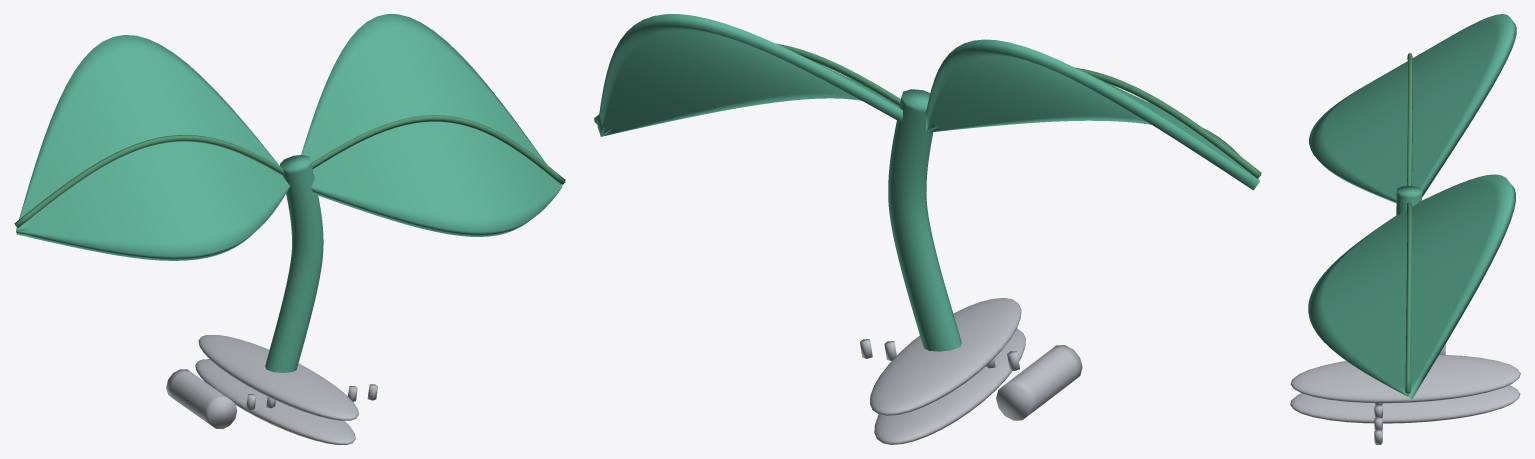
File: Feminine-space-buns-pashmina249-sprout.glb
3 renders of one model, left to right at view 1: azimuth 30°, elevation 25°; view 2: azimuth 150°, elevation 25°; view 3: azimuth 270°, elevation 25°, orthographic. The views are drawn at different scales.
Visible parts, largest first — view 1: 226 extra / Accessory / mint226, 226 extra / Sprout / clip silver235, 226 extra / Sprout / leaf vein235; view 2: 226 extra / Accessory / mint226, 226 extra / Sprout / clip silver235, 226 extra / Sprout / leaf vein235; view 3: 226 extra / Accessory / mint226, 226 extra / Sprout / clip silver235, 226 extra / Sprout / leaf vein235.
Boxes of the visible parts, bbox=[...] form: 226 extra / Accessory / mint226: bbox=[16, 14, 562, 372]; 226 extra / Sprout / clip silver235: bbox=[166, 335, 377, 444]; 226 extra / Sprout / leaf vein235: bbox=[14, 115, 565, 228]; 226 extra / Accessory / mint226: bbox=[597, 14, 1259, 351]; 226 extra / Sprout / clip silver235: bbox=[860, 298, 1082, 444]; 226 extra / Sprout / leaf vein235: bbox=[594, 43, 1261, 178]; 226 extra / Accessory / mint226: bbox=[1308, 14, 1516, 398]; 226 extra / Sprout / clip silver235: bbox=[1290, 344, 1520, 444]; 226 extra / Sprout / leaf vein235: bbox=[1405, 53, 1412, 393].
Size of the model in its own units: 0.2684 by 0.1685 by 0.1035.
